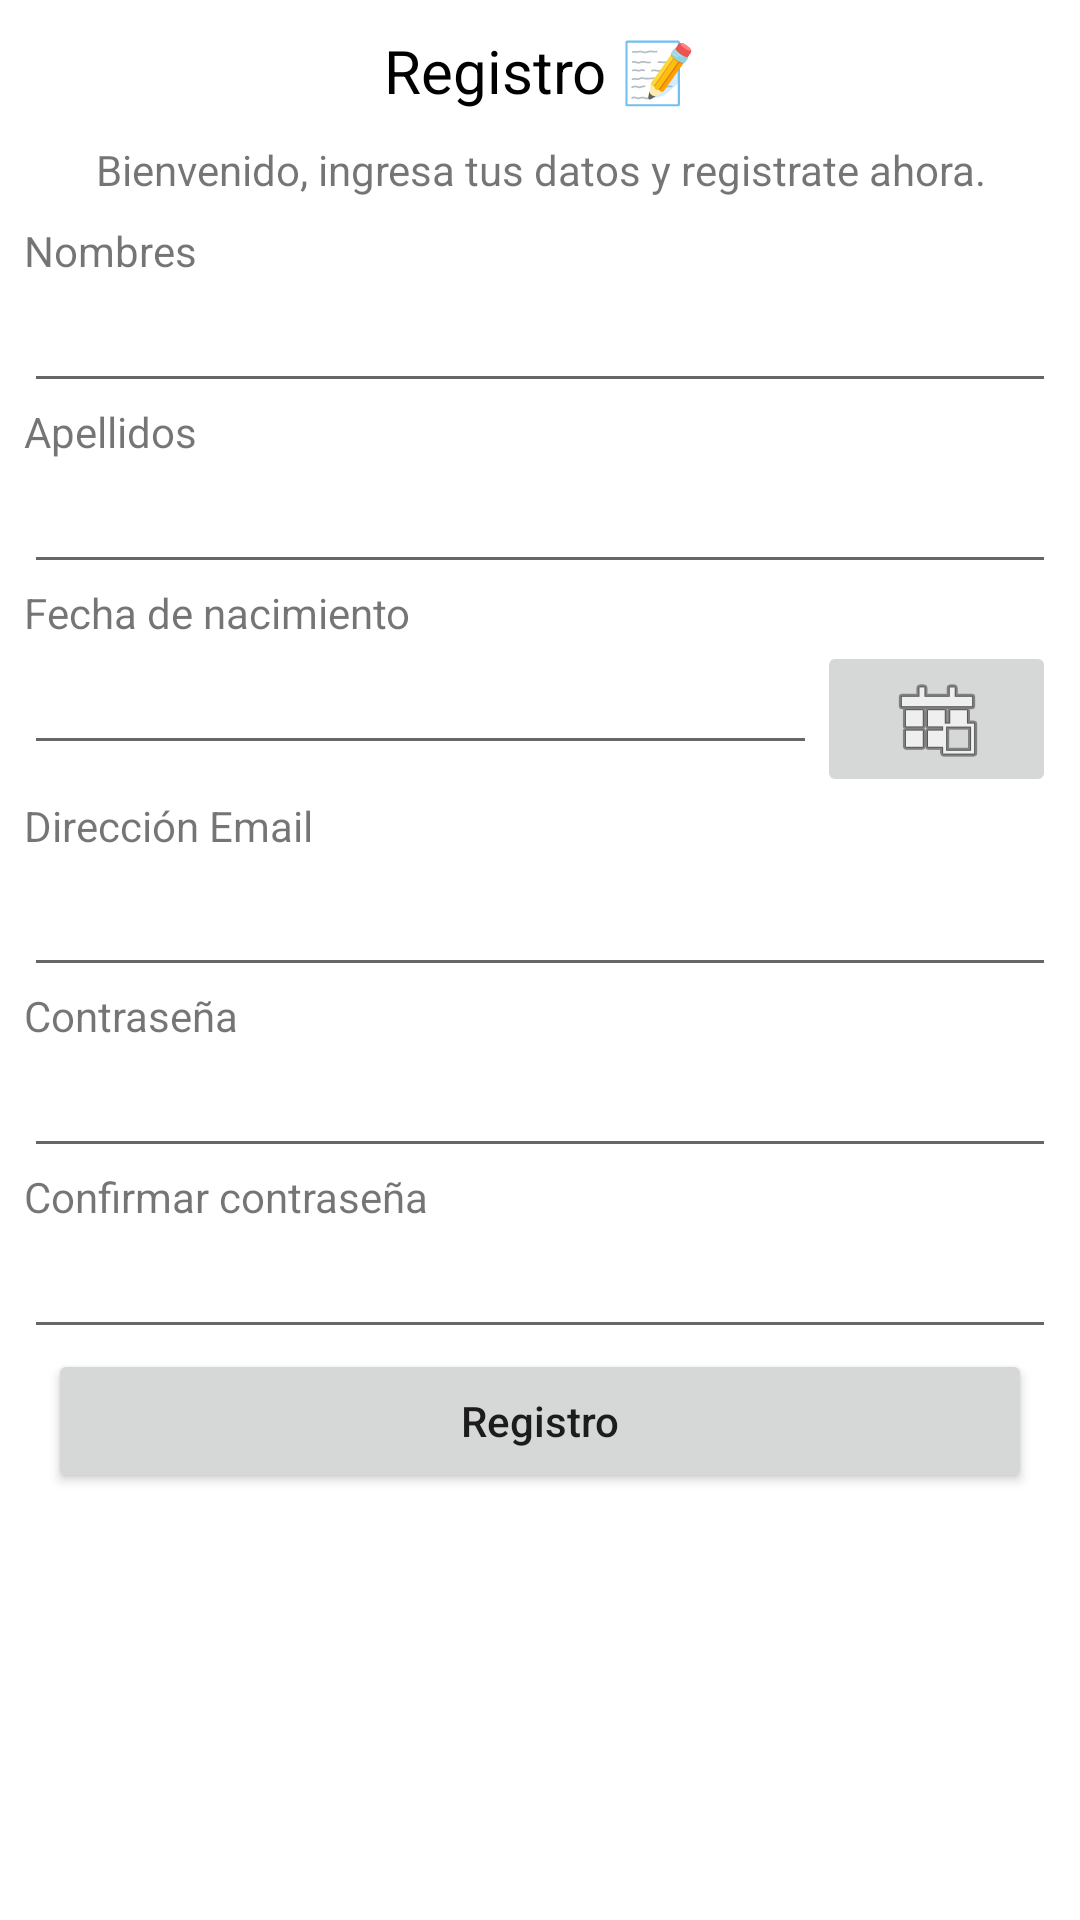

Screen size 1080 × 1920. Icon name, then its box in pixels as (x1, y1, x2, y2):
today: (829, 659, 1044, 779)
